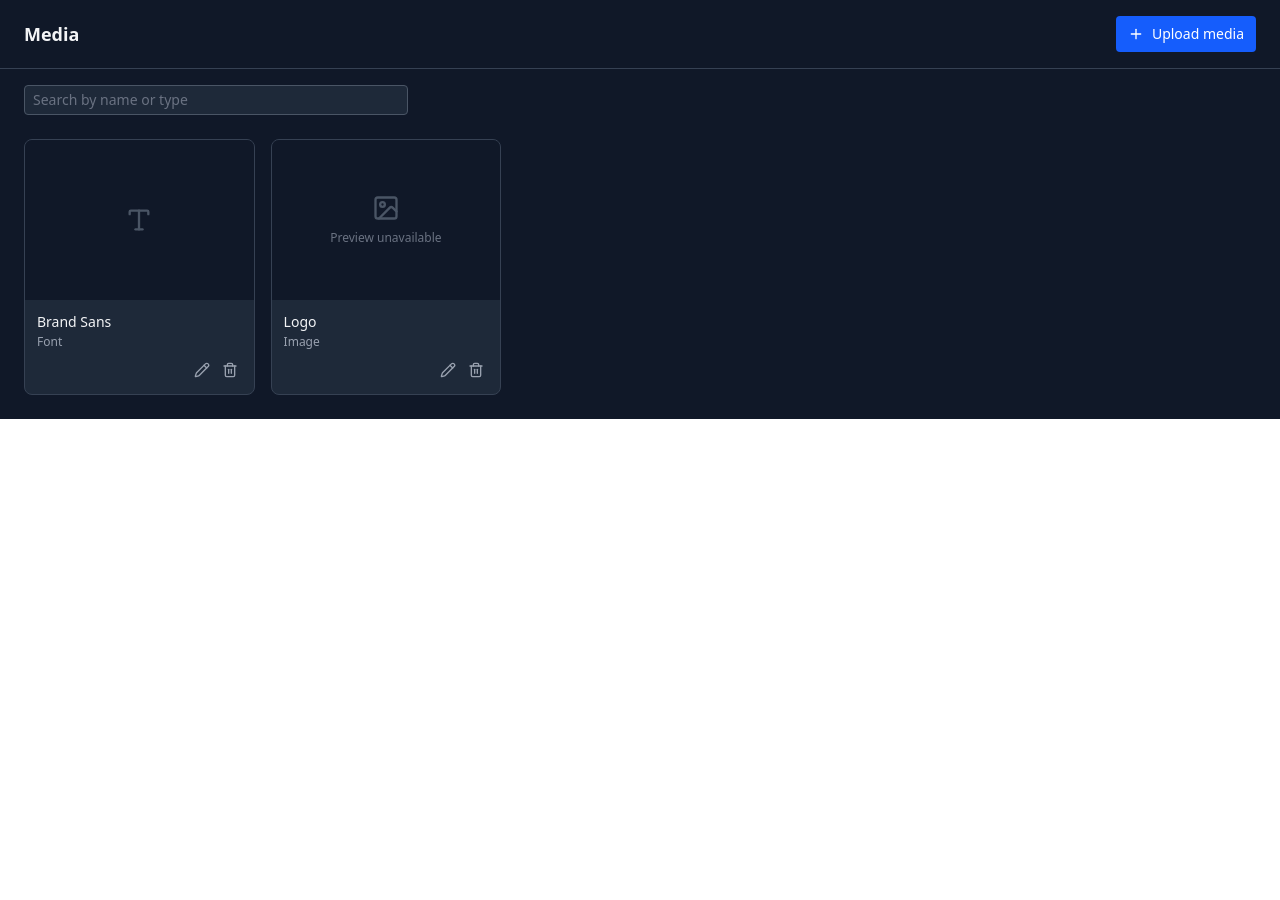
Test: MediaSection › renames a resource through the rename dialog
Expected: the text "Brand Sans" is shown, [37,312,111,332]
Click the button named "Rename" below "Font": (202, 370) [190,358,214,382]
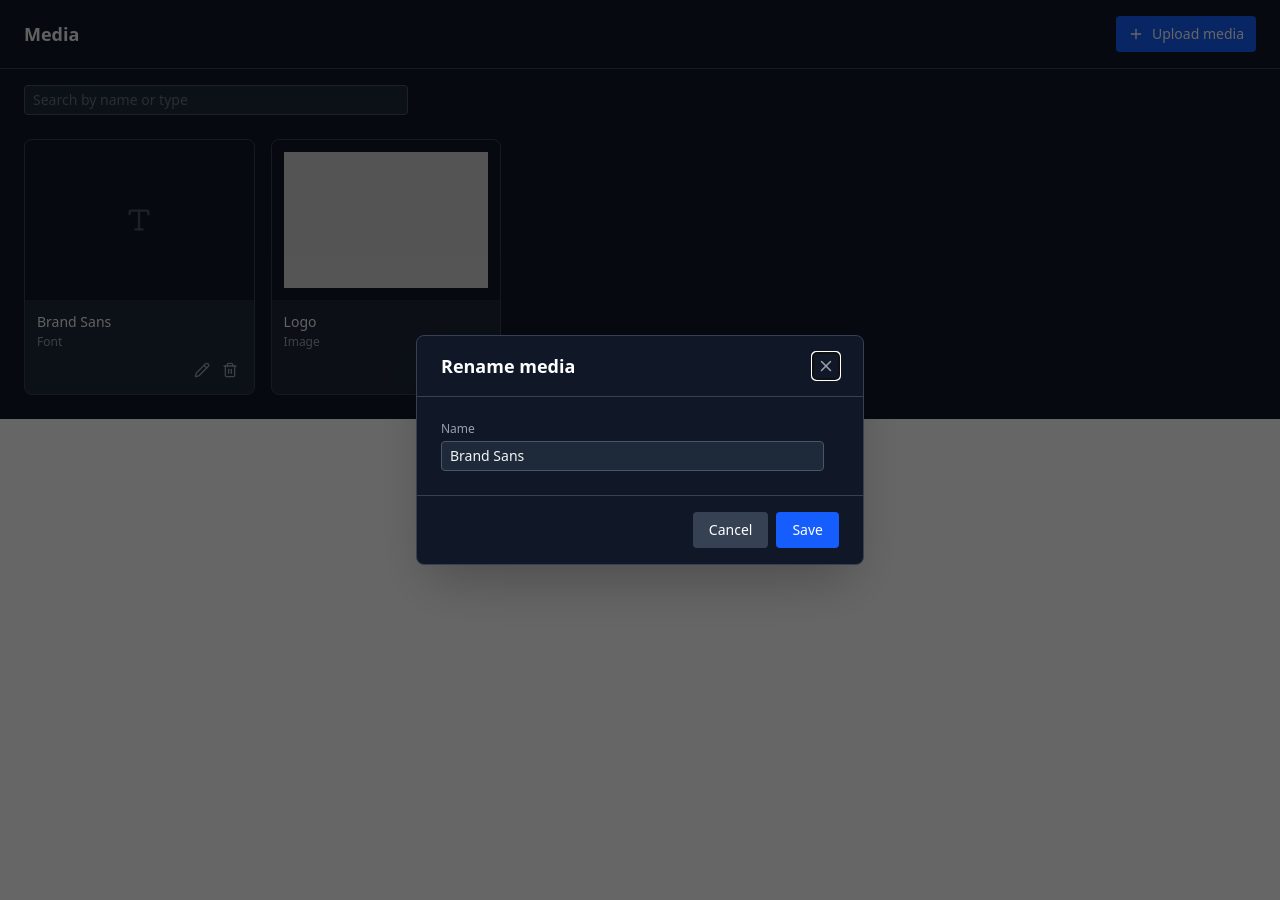
Replace the text in the field labelled "Name" with "Brand Sans Bold": (632, 456) [441,441,824,471]
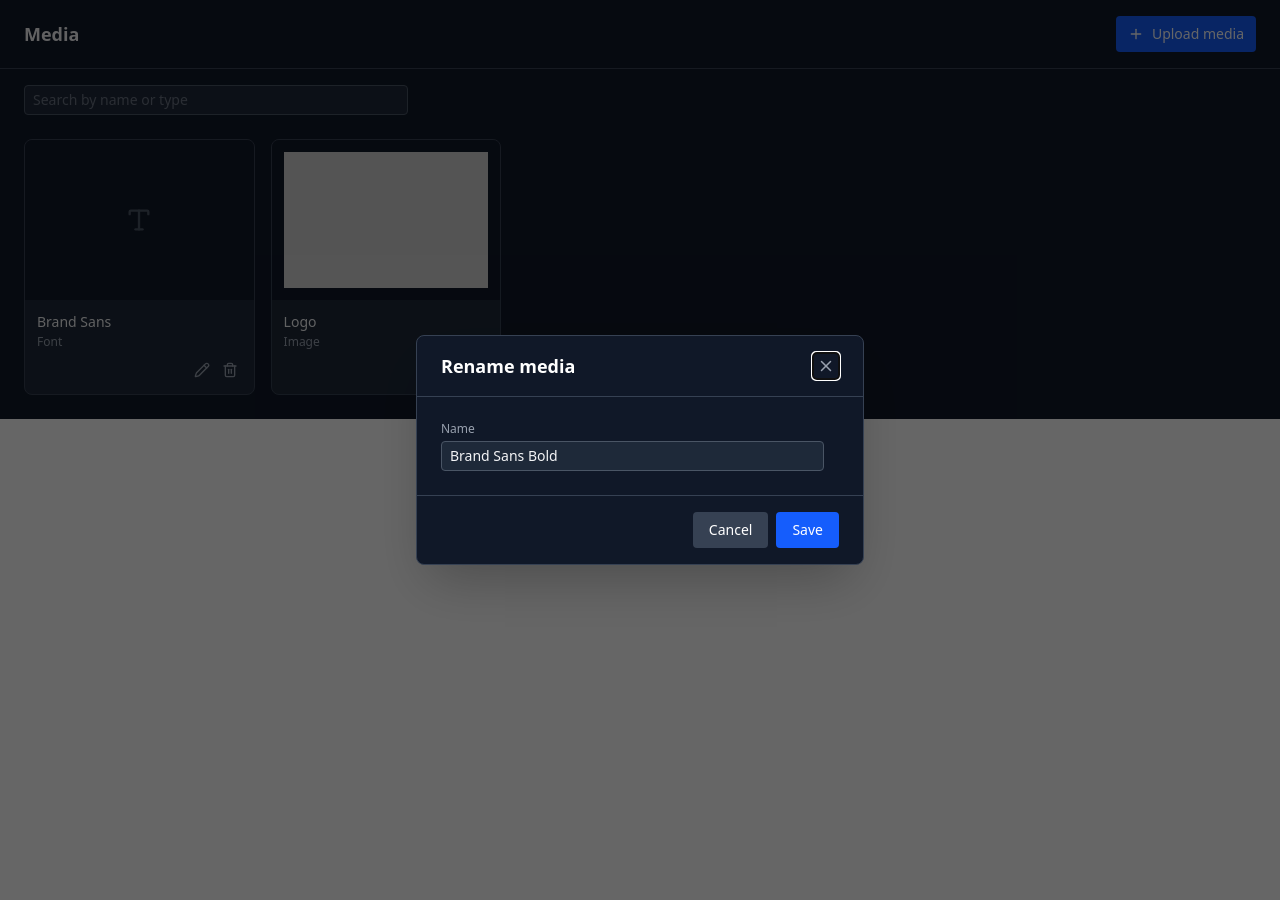
Click the button "Save": (808, 530) [776,512,839,548]
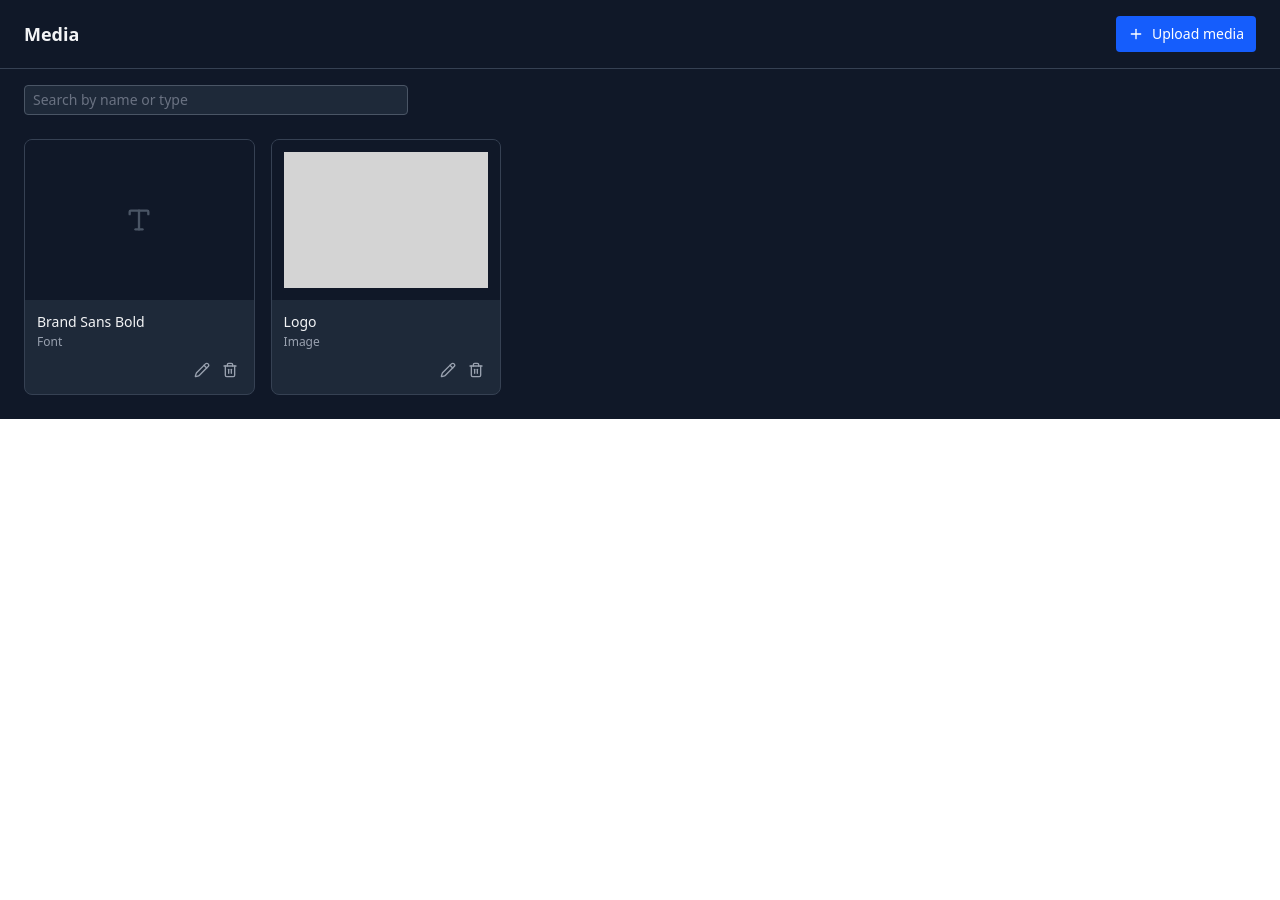
Result: the text "Brand Sans Bold" is shown at [37,312,145,332]
